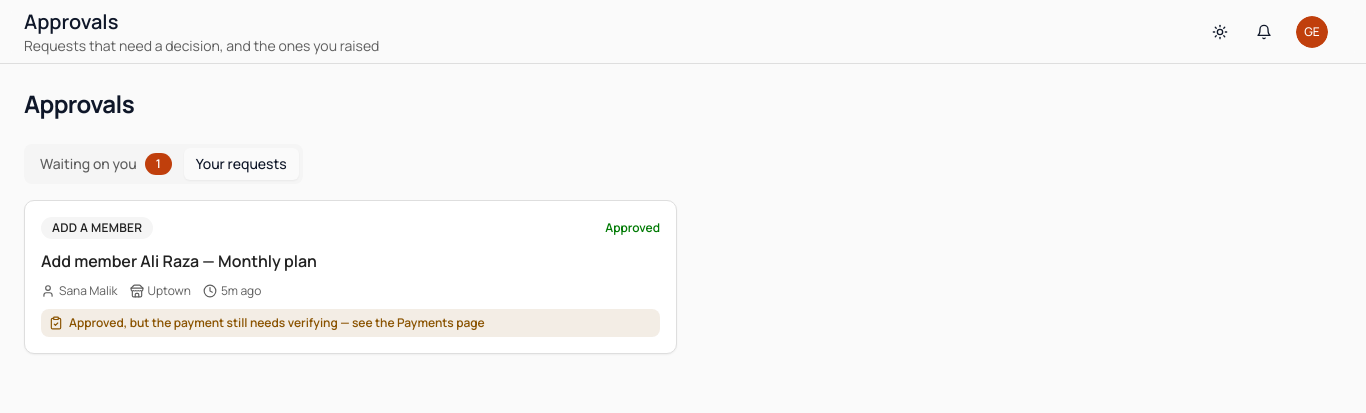
ApprovalsPage (UX-13) › says when an approved request still needs its payment verified, or was collected up front
The width and height of the screenshot is (1366, 413).
Expected: the text "Approved, but the payment still needs verifying — see the Payments page" is shown, [41,309,660,337]
Press the mouse on the tab "Waiting on you 1" at x=106, y=164, box [28,147,184,181]
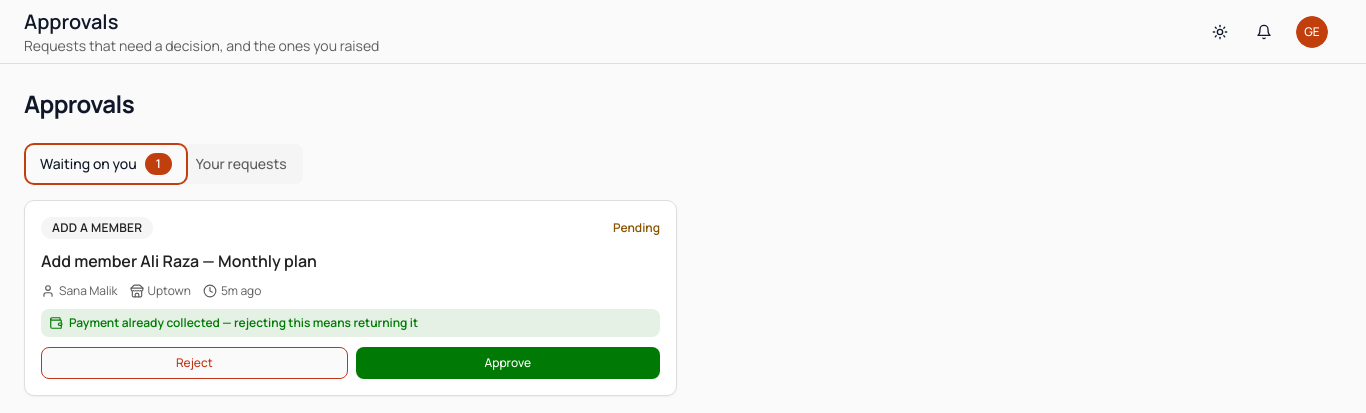
Expected: the text "Payment already collected — rejecting this means returning it" is shown, [41,309,660,337]
